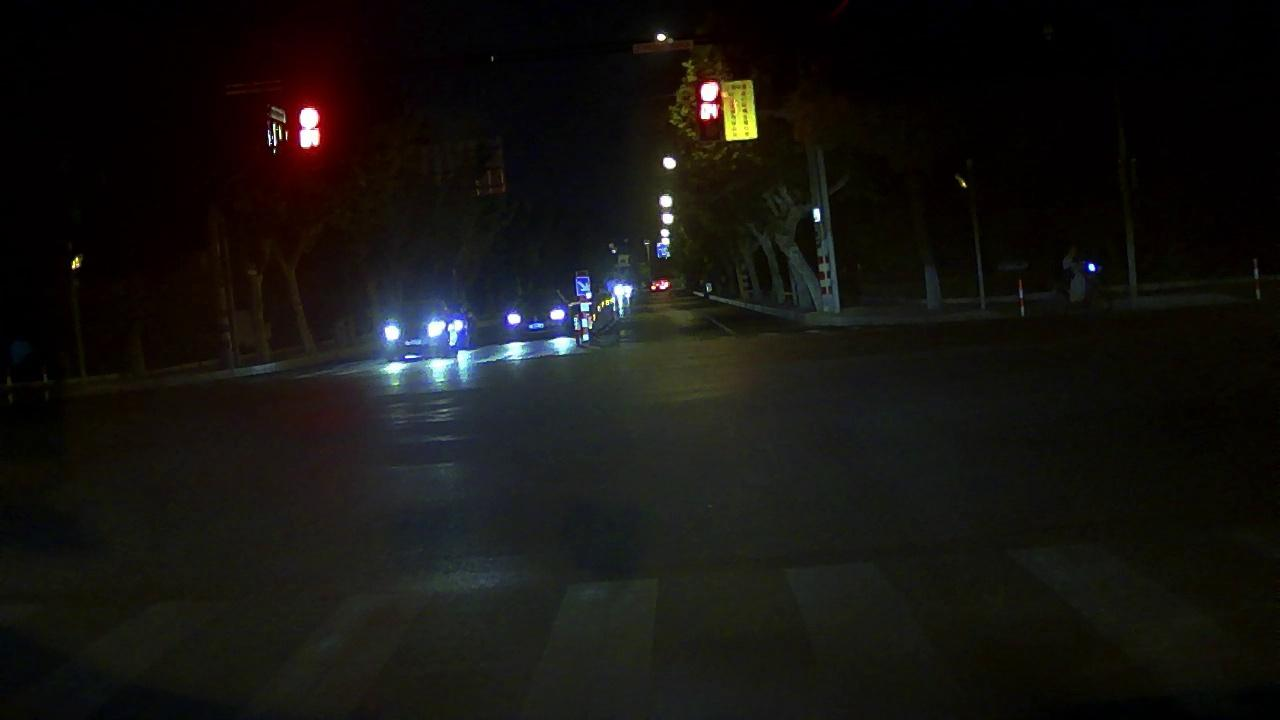traffic_light: (289, 102, 330, 153), (696, 67, 723, 126)
